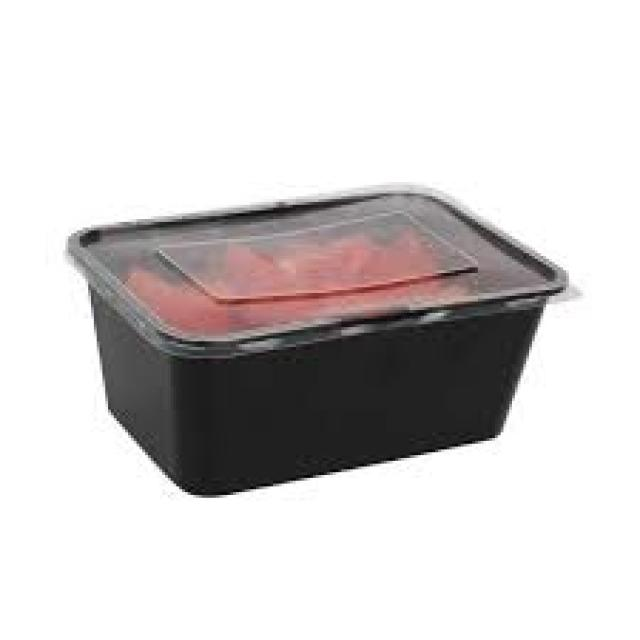disposable: (52, 152, 587, 557)
